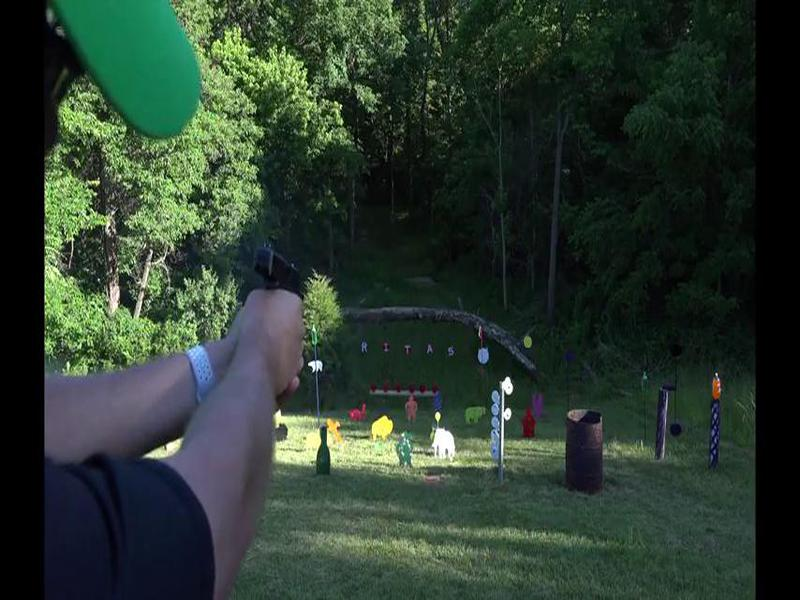Pistola: (240, 243, 328, 327)
